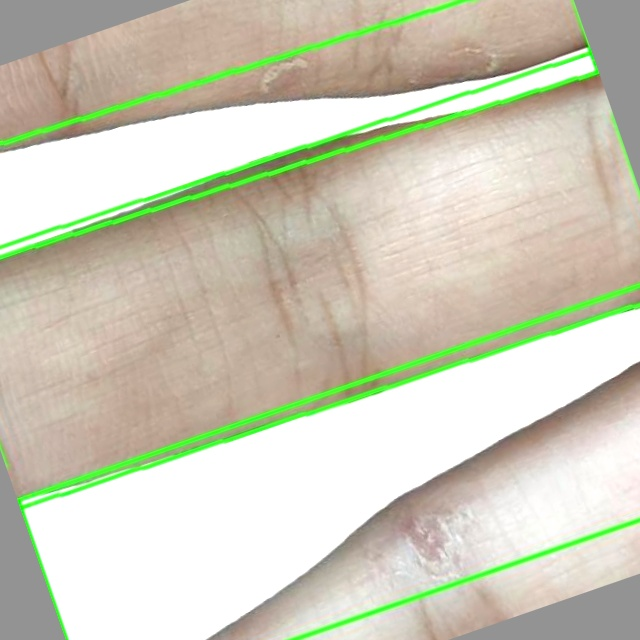Atopic Dermatitis: (0, 53, 639, 509), (18, 286, 639, 639), (0, 0, 598, 257)
